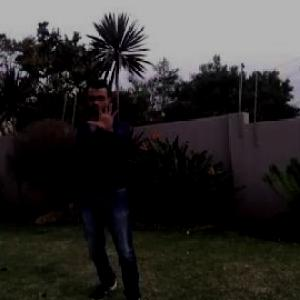follow_hand: (84, 96, 123, 136)
